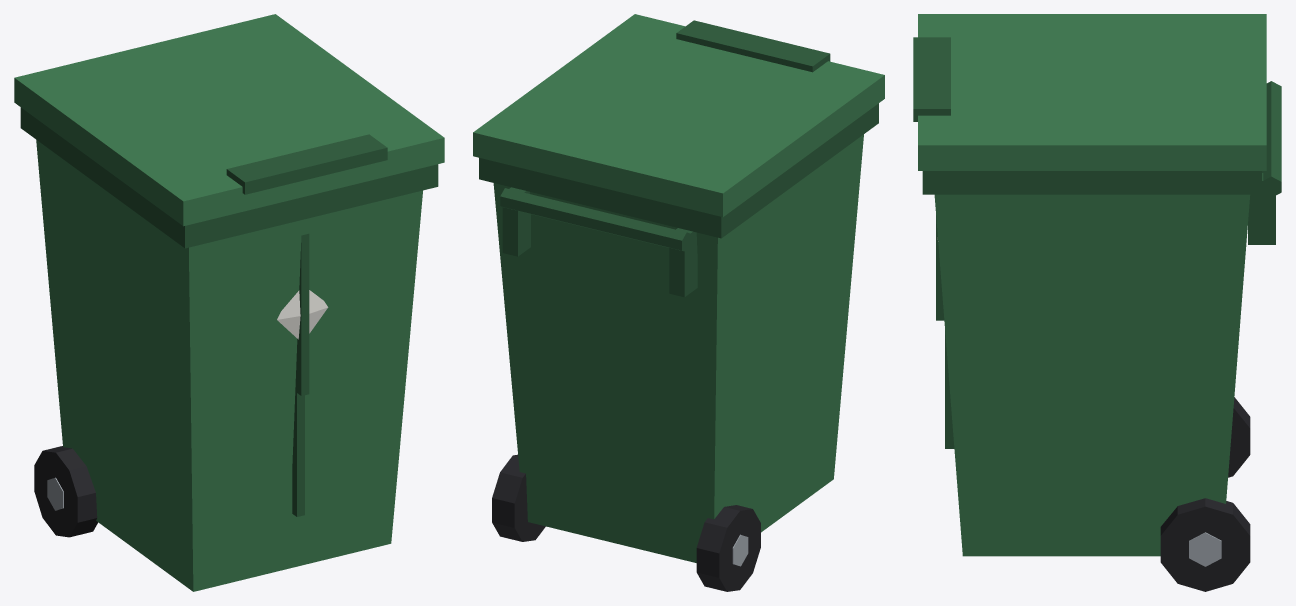
File: cubo_basura.glb
3 views of the same model, side by side, from view 1: azimuth 30°, elevation 25°; view 2: azimuth 150°, elevation 25°; view 3: azimuth 270°, elevation 25° (orthographic). The views are drawn at different scales.
Visible parts, largest first — view 1: cubo_basura_contenedor, tapa_contenedor, cubo_basura_contenedor_osc, tapa_contenedor_osc, rueda_izq_goma, cubo_basura_blanco; view 2: cubo_basura_contenedor, tapa_contenedor, cubo_basura_contenedor_osc, rueda_izq_goma, tapa_contenedor_osc, rueda_der_goma; view 3: cubo_basura_contenedor, tapa_contenedor, cubo_basura_contenedor_osc, rueda_der_goma, tapa_contenedor_osc, rueda_izq_goma, rueda_der_metal.
Part boxes in pixels (x1,y1,x2,y2): cubo_basura_contenedor: (36, 140, 422, 591); tapa_contenedor: (14, 14, 444, 226); cubo_basura_contenedor_osc: (20, 107, 438, 516); tapa_contenedor_osc: (226, 134, 387, 194); rueda_izq_goma: (34, 446, 97, 537); cubo_basura_blanco: (277, 290, 328, 339); cubo_basura_contenedor: (493, 134, 863, 562); tapa_contenedor: (473, 14, 884, 216); cubo_basura_contenedor_osc: (479, 103, 878, 297); rueda_izq_goma: (696, 505, 760, 591); tapa_contenedor_osc: (676, 20, 830, 72); rueda_der_goma: (492, 454, 545, 541); cubo_basura_contenedor: (934, 194, 1250, 556); tapa_contenedor: (918, 14, 1266, 170); cubo_basura_contenedor_osc: (922, 81, 1281, 448); rueda_der_goma: (1160, 498, 1250, 591); tapa_contenedor_osc: (913, 37, 950, 121); rueda_izq_goma: (1228, 397, 1250, 477); rueda_der_metal: (1189, 532, 1221, 566).
Size of the model in its own units: 0.66 by 1.08 by 0.7817.
